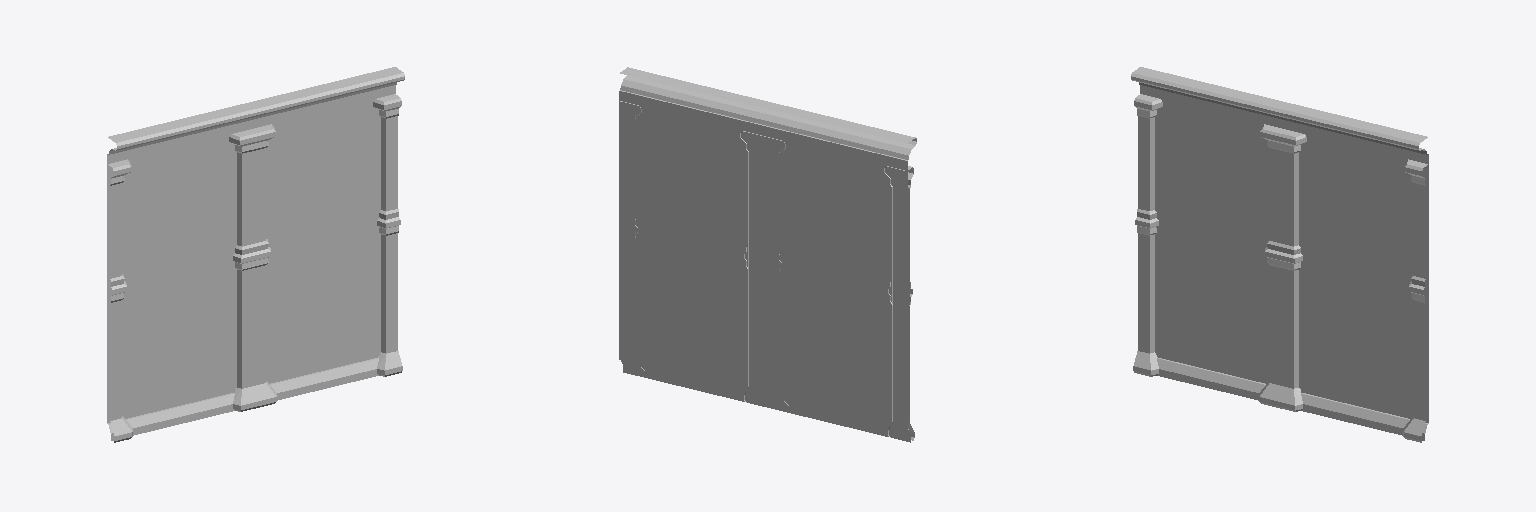
The model's file is mansion2_wall.obj.
3 renders of one model, left to right at view 1: azimuth 30°, elevation 25°; view 2: azimuth 150°, elevation 25°; view 3: azimuth 330°, elevation 25°, orthographic.
Parts seen in each view (by area): view 1: default02_default0Shape2; view 2: default02_default0Shape2; view 3: default02_default0Shape2.
Part boxes in pixels (left/top/right/bottom): default02_default0Shape2: left=107, top=67, right=404, bottom=442; default02_default0Shape2: left=619, top=67, right=916, bottom=442; default02_default0Shape2: left=1131, top=67, right=1428, bottom=442.
Bounding box in the file's own units: 4 × 4 × 0.2475.